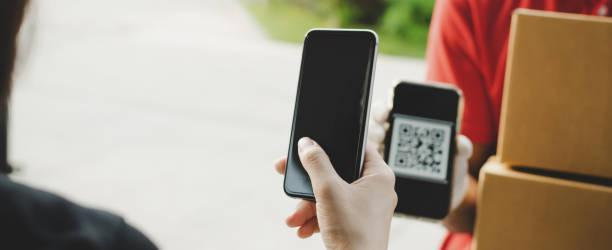qr_code: (395, 123, 446, 177)
